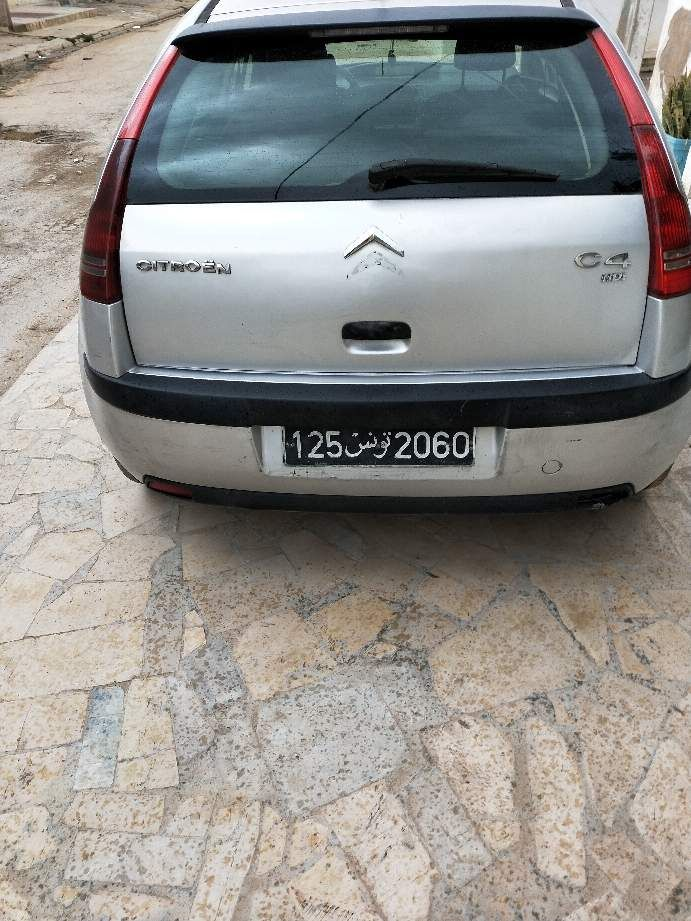LP: (280, 422, 479, 469)
